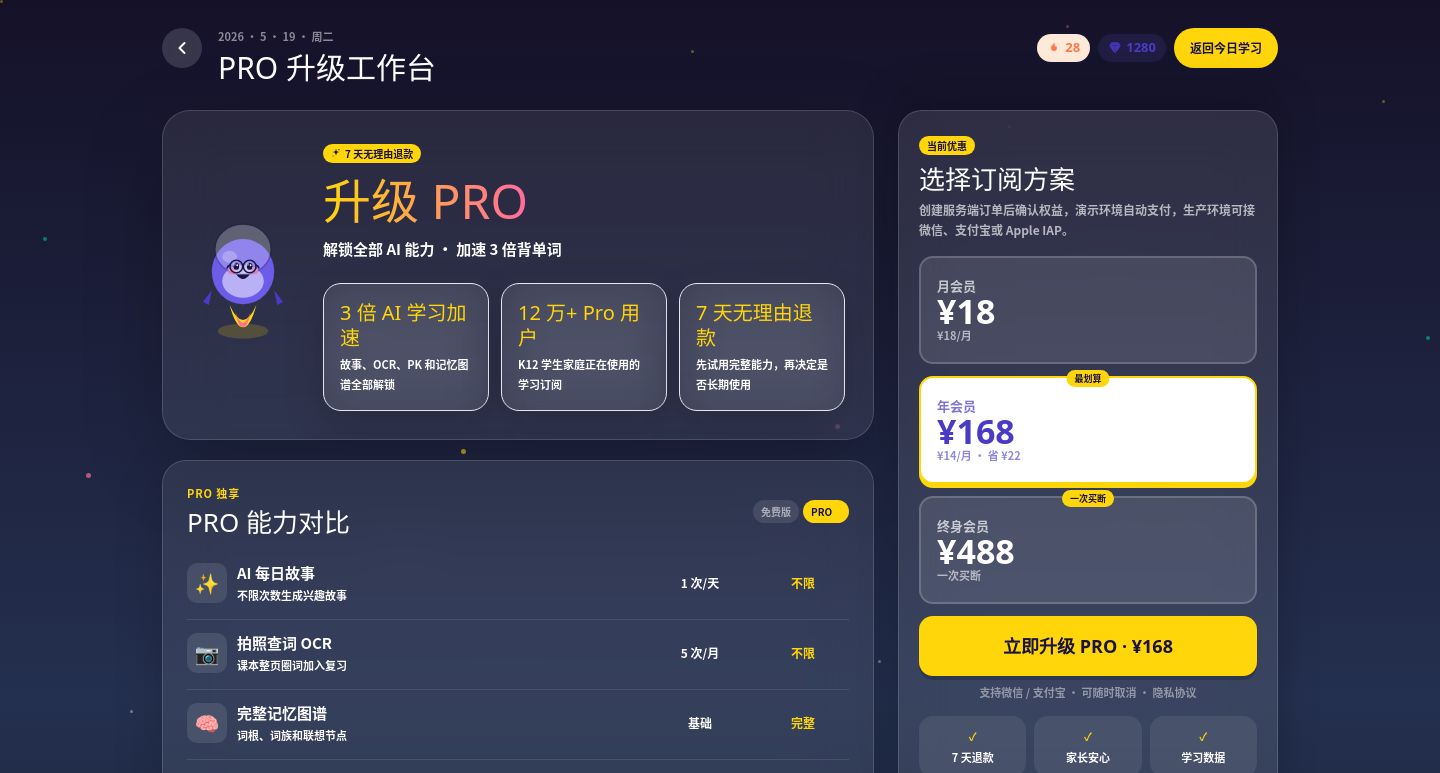
it: ProScreen › activates the selected plan and returns to profile after a success toast
Click the button "月会员 ¥18 ¥18/月": x=957, y=285 [919,256,1257,364]
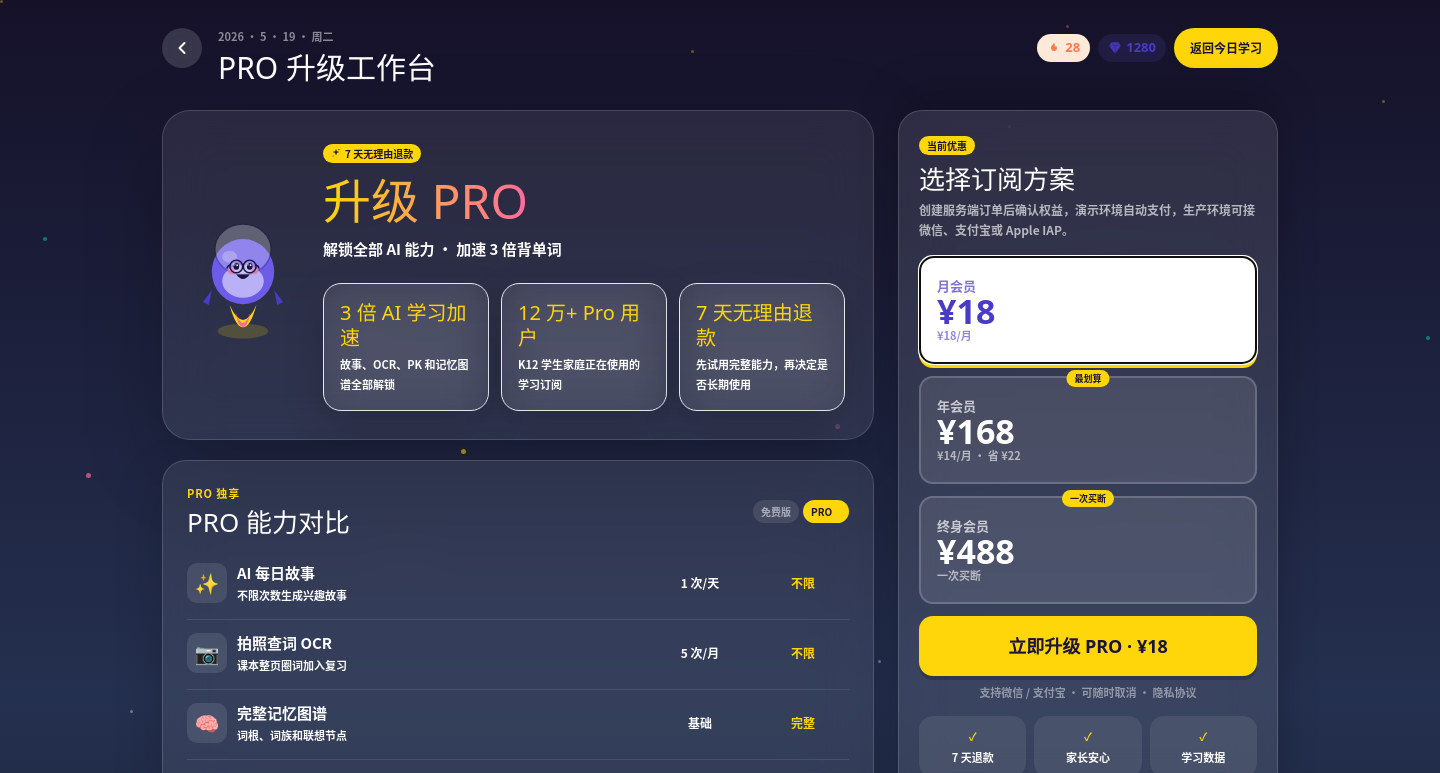
Click the button "立即升级 PRO · ¥18": x=1088, y=646 [919,616,1257,676]
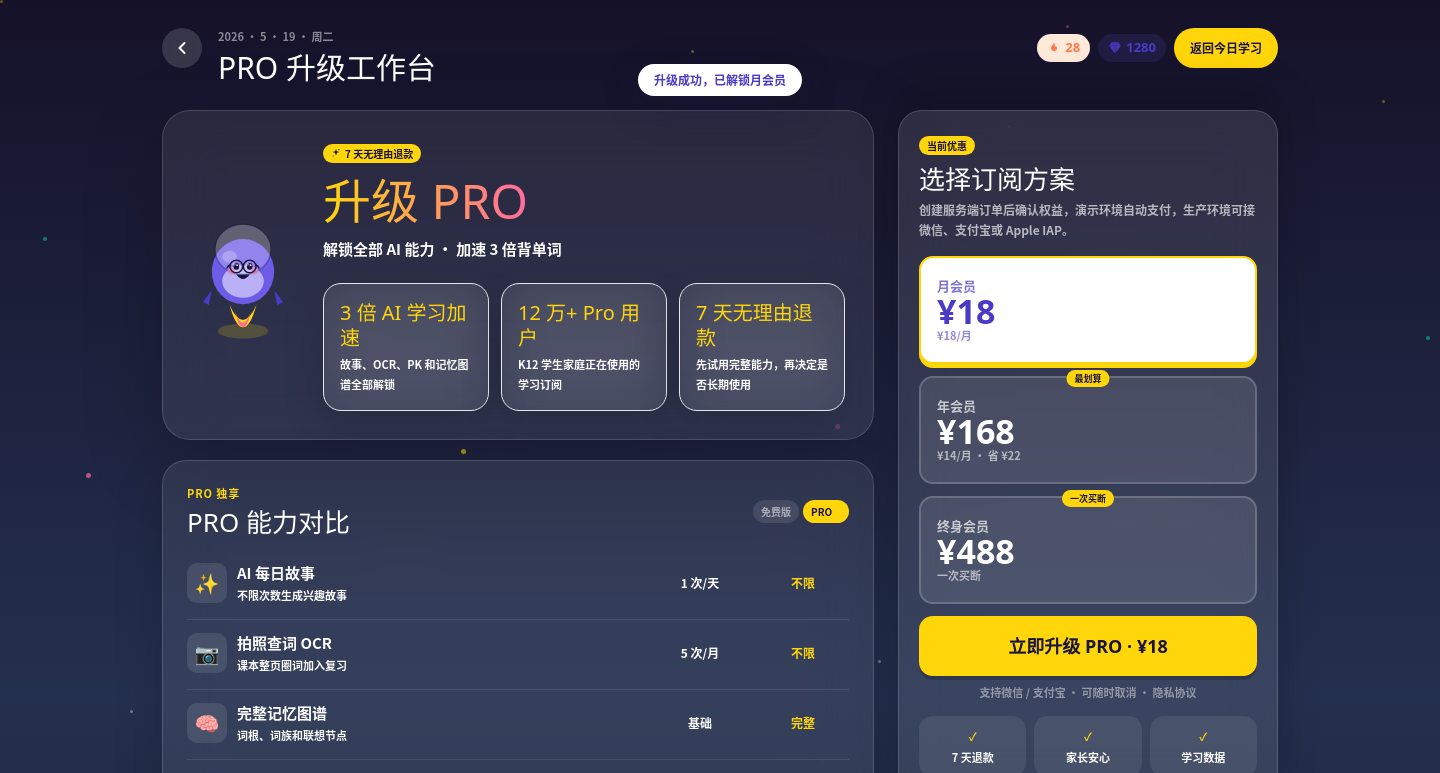
Result: the text "升级成功，已解锁月会员" is shown at [638,64,802,96]
